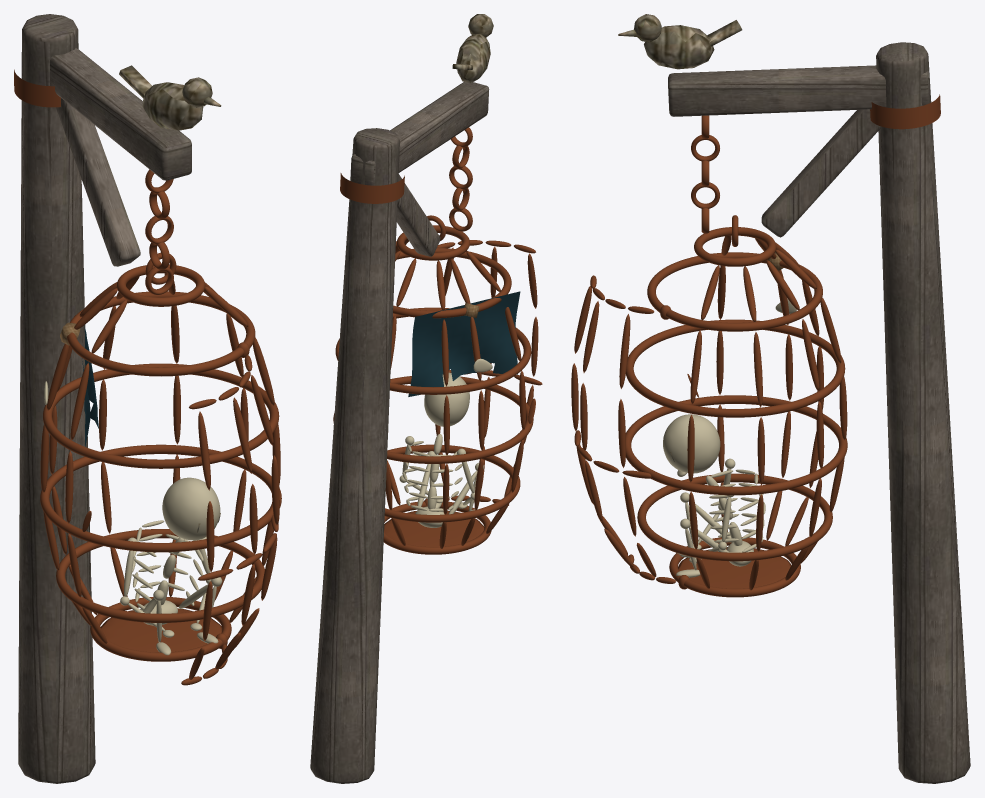
File: gibbet_cage.glb
3 views of the same model, side by side, from view 1: azimuth 30°, elevation 25°; view 2: azimuth 150°, elevation 25°; view 3: azimuth 270°, elevation 25° (orthographic). The views are drawn at different scales.
Parts seen in each view (by area): view 1: gibbet_cage; view 2: gibbet_cage; view 3: gibbet_cage.
Part boxes in pixels (x1,y1,x2,y2): gibbet_cage: [14, 14, 281, 783]; gibbet_cage: [310, 14, 542, 783]; gibbet_cage: [571, 14, 970, 783].
Size of the model in its own units: 0.9046 by 3.33 by 1.6.
Materials: 6 (6 with a texture image).
